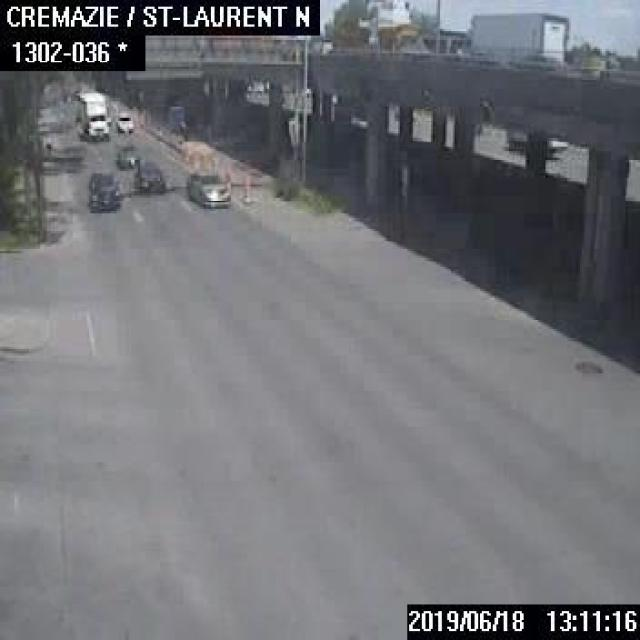construction: (240, 169, 249, 204)
vehicle: (460, 9, 569, 62), (73, 89, 109, 138), (186, 167, 229, 204), (85, 172, 121, 212), (135, 158, 162, 191), (114, 140, 139, 168), (114, 109, 132, 131)
